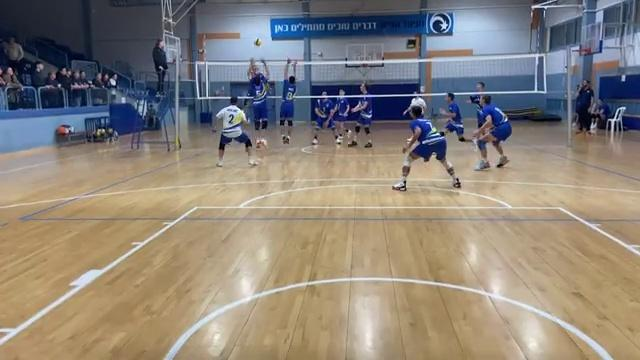ball: (254, 39, 263, 47)
